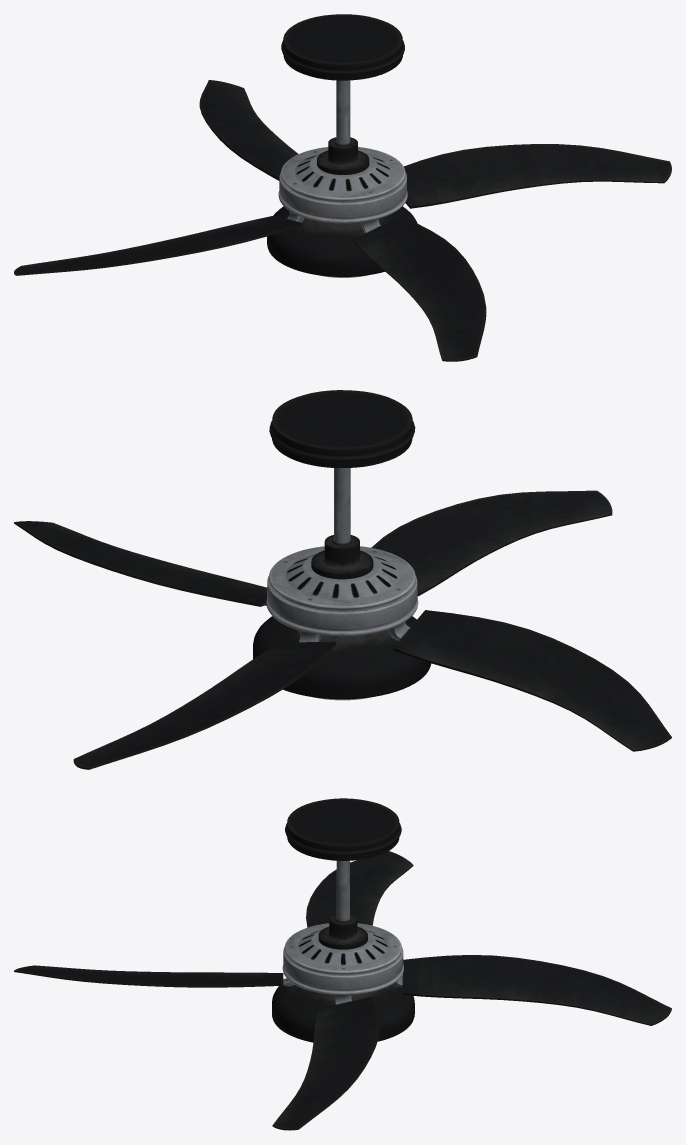
The model's file is ph_ceiling_fan.glb.
3 views of the same model, one above another, from view 1: azimuth 30°, elevation 25°; view 2: azimuth 150°, elevation 25°; view 3: azimuth 270°, elevation 25° (orthographic). The views are drawn at different scales.
Visible parts, largest first — view 1: ph_ceiling_fan; view 2: ph_ceiling_fan; view 3: ph_ceiling_fan.
Boxes of the visible parts, bbox=[...] form: ph_ceiling_fan: bbox=[14, 14, 671, 361]; ph_ceiling_fan: bbox=[14, 390, 671, 769]; ph_ceiling_fan: bbox=[14, 798, 671, 1130].
Bounding box in the file's own units: 1.46 × 0.5163 × 1.46.
1 material, 1 textured.
